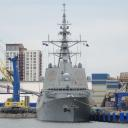Fragata: (36, 2, 96, 124)
